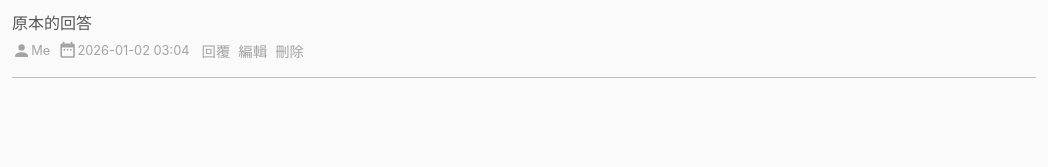
Test: AnswerCard › 編輯 › 取消後恢復原內容
The width and height of the screenshot is (1048, 167).
Click the text "編輯" at (253, 52), box [238, 43, 267, 60]
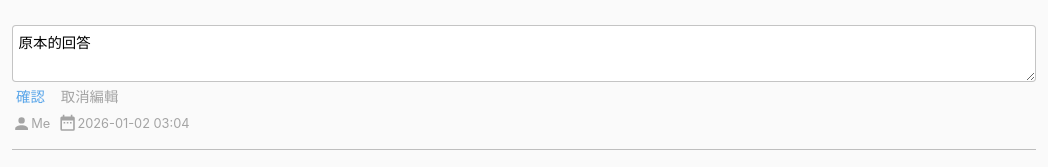
Replace the text in the text box named "編輯回覆" with "改到一半" at (524, 53), box [12, 25, 1036, 82]
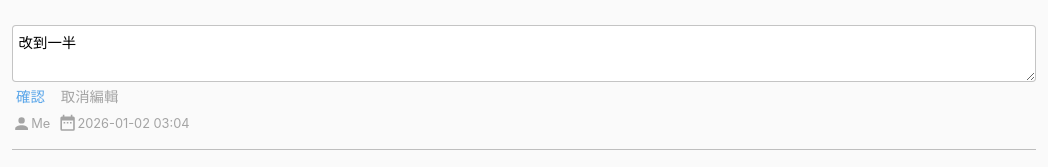
Click the text "取消編輯" at (90, 96), box [57, 84, 122, 107]
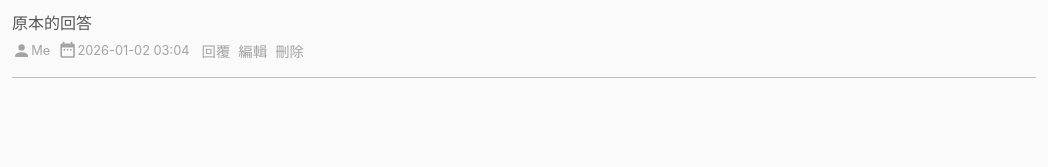
Check: the text "原本的回答" is shown, box [12, 13, 92, 33]
Click the text "編輯" at (253, 52), box [238, 43, 267, 60]
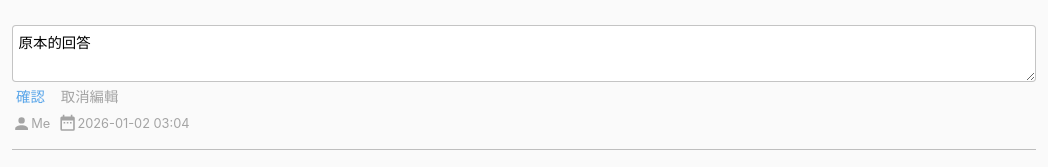
Check: the text box named "編輯回覆" holds "原本的回答", box [12, 25, 1036, 82]
